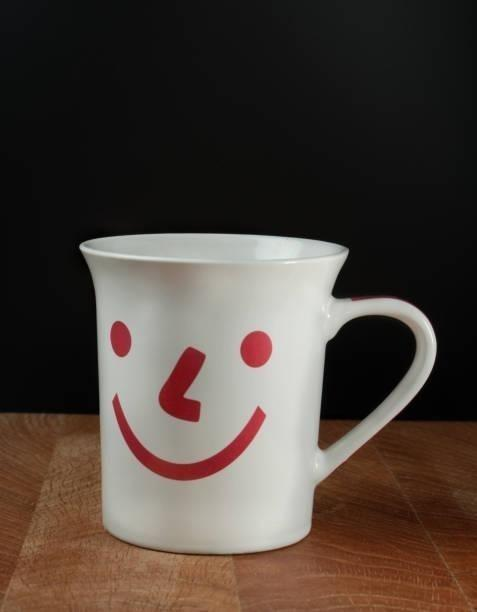cup-handle: (79, 230, 438, 556)
